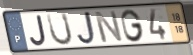4: (149, 8, 169, 42)
G: (120, 8, 146, 43)
J: (76, 11, 97, 46), (28, 14, 48, 47)
N: (92, 10, 125, 44)
U: (45, 12, 74, 47)
